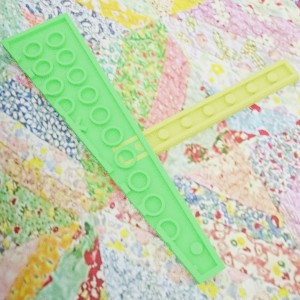lego: (0, 11, 226, 284), (110, 57, 300, 173)
